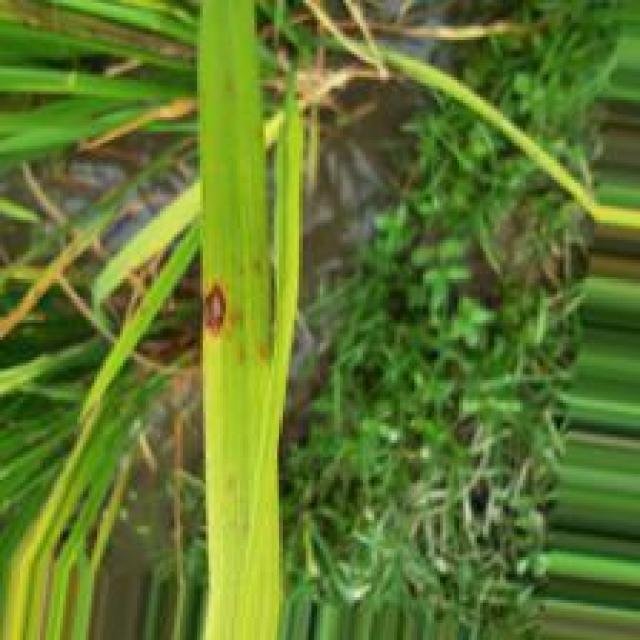Brown_Spot: (202, 277, 227, 341)
